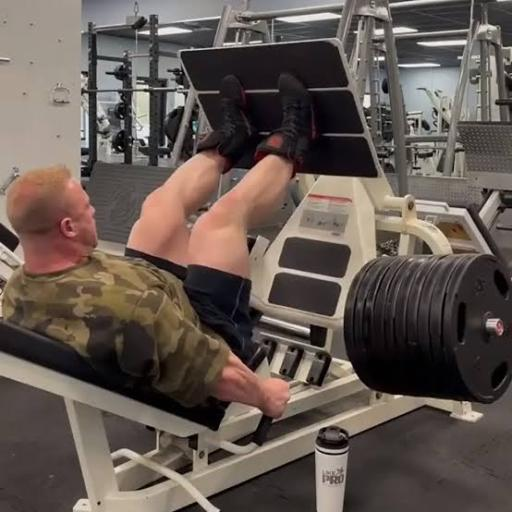Leg Press: (12, 60, 464, 456)
